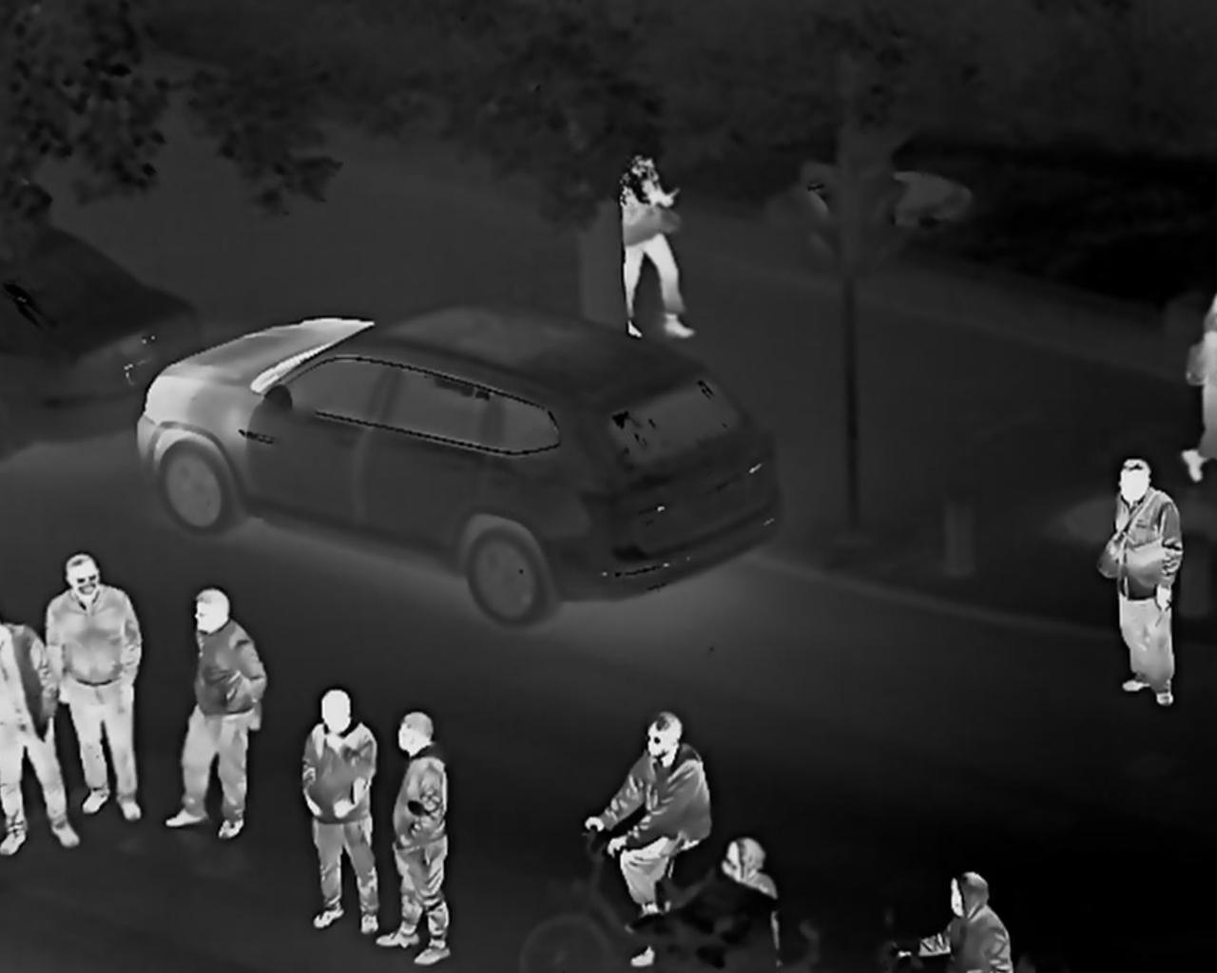person: (1087, 446, 1192, 723), (606, 682, 718, 940), (57, 544, 155, 822), (391, 681, 480, 959), (297, 674, 383, 942), (176, 555, 254, 830), (889, 855, 1042, 973), (610, 155, 694, 351), (6, 602, 55, 877), (1179, 272, 1217, 456), (728, 830, 797, 921)
